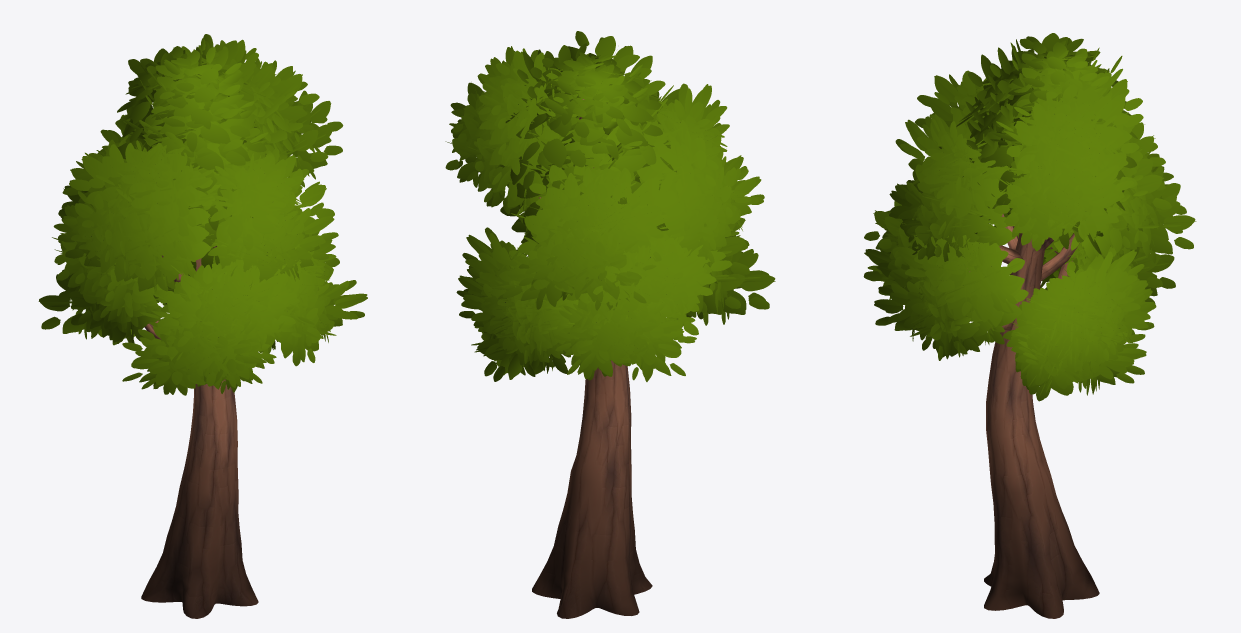
File: CommonTree_1.gltf
3 renders of one model, left to right at view 1: azimuth 30°, elevation 25°; view 2: azimuth 150°, elevation 25°; view 3: azimuth 270°, elevation 25°, orthographic. The views are drawn at different scales.
Visible parts, largest first — view 1: CommonTree_1; view 2: CommonTree_1; view 3: CommonTree_1.
Boxes of the visible parts, x1,y1,x2,y2 form: CommonTree_1: [38, 34, 367, 618]; CommonTree_1: [445, 31, 775, 618]; CommonTree_1: [863, 33, 1196, 618].
Size of the model in its own units: 4.31 by 7.26 by 4.58.
2 materials, 2 textured.
